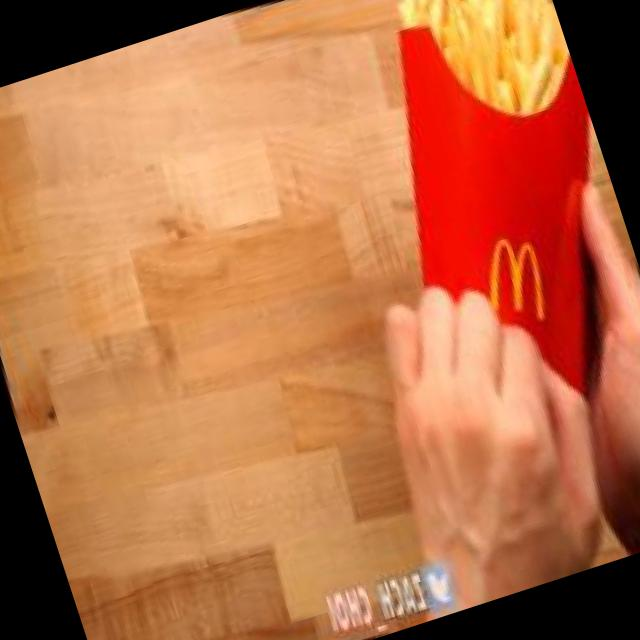french fries: (359, 0, 591, 174)
